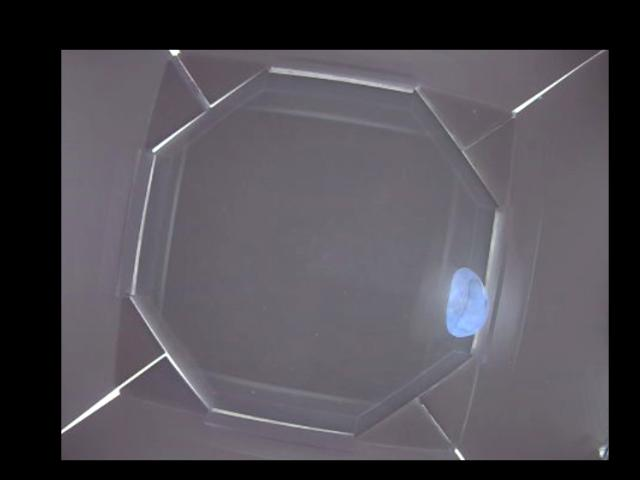Pebble: (448, 267, 492, 337)
